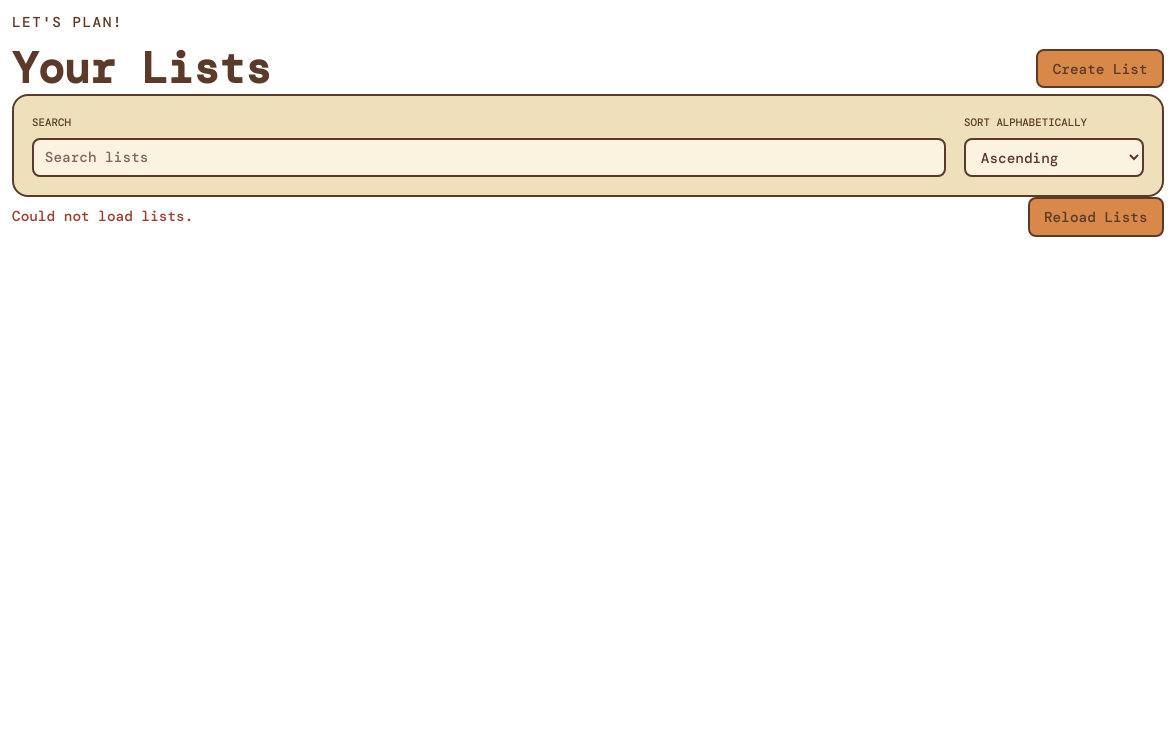
Scenario: ListsPage › reloads after the initial load fails
Check: the message reads "Could not load lists.", box [12,207,193,225]
What coordinates should you click on to do the following:
click the button "Reload Lists"
I would click on:
 (1096, 217)
Its box is [1028,197,1164,237].
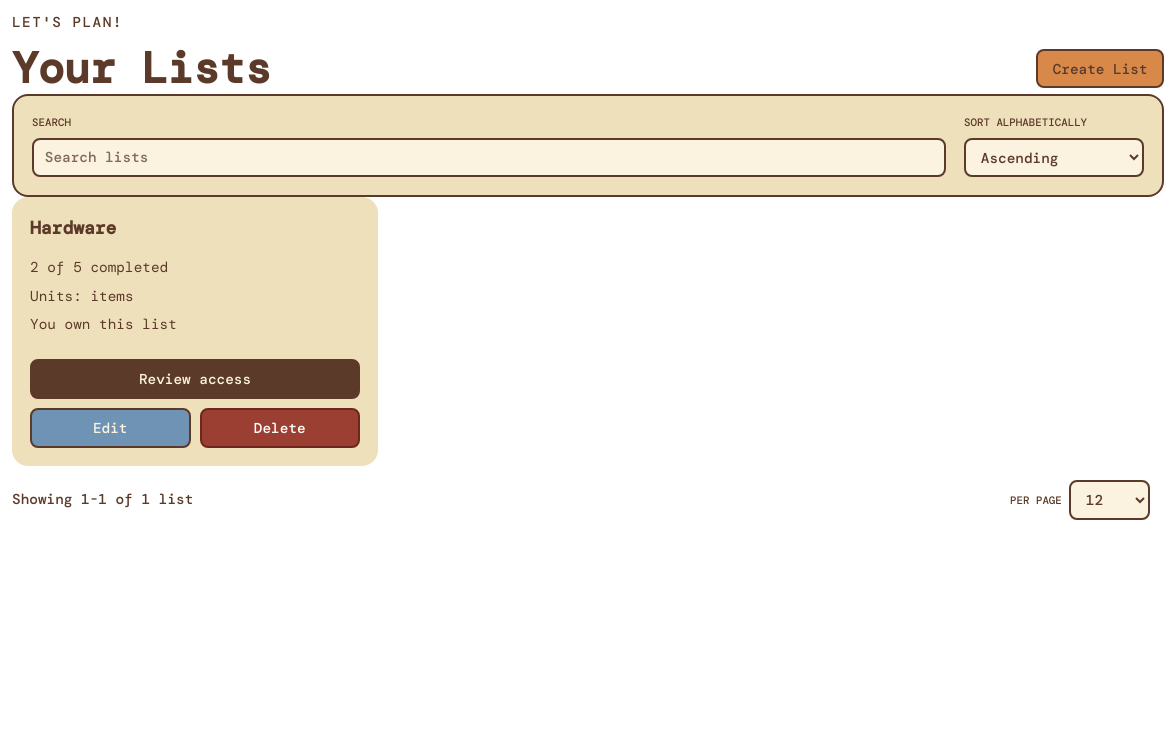
Check: the heading "Hardware" is shown, box [30,216,116,240]
Check: the message "Could not load lists." is gone
